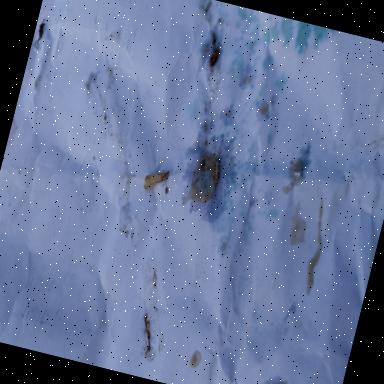pbw: (140, 166, 168, 195), (207, 156, 224, 190)
